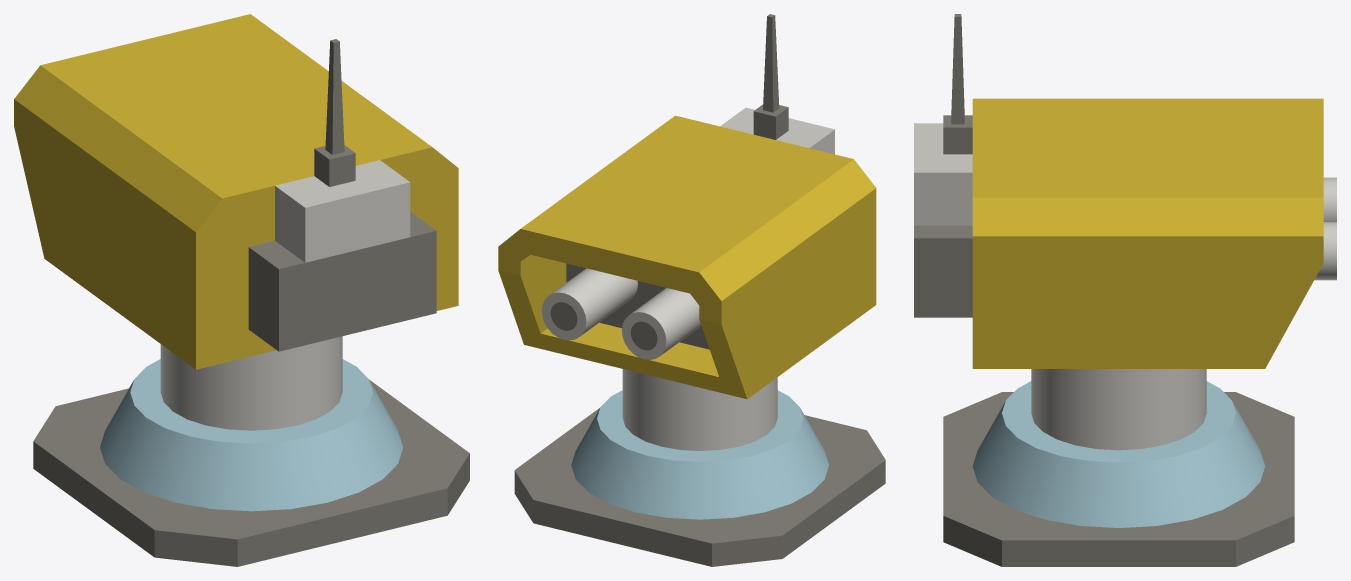
The model's file is cc0-turret-single-lod0.glb.
3 renders of one model, left to right at view 1: azimuth 30°, elevation 25°; view 2: azimuth 150°, elevation 25°; view 3: azimuth 270°, elevation 25°, orthographic. The views are drawn at different scales.
Visible parts, largest first — view 1: part_0; view 2: part_0; view 3: part_0.
Boxes of the visible parts, x1=… form: part_0: x1=14, y1=14, x2=469, y2=566; part_0: x1=498, y1=14, x2=885, y2=566; part_0: x1=914, y1=14, x2=1336, y2=566.
Bounding box in the file's own units: 0.6 × 0.9 × 0.7224.
